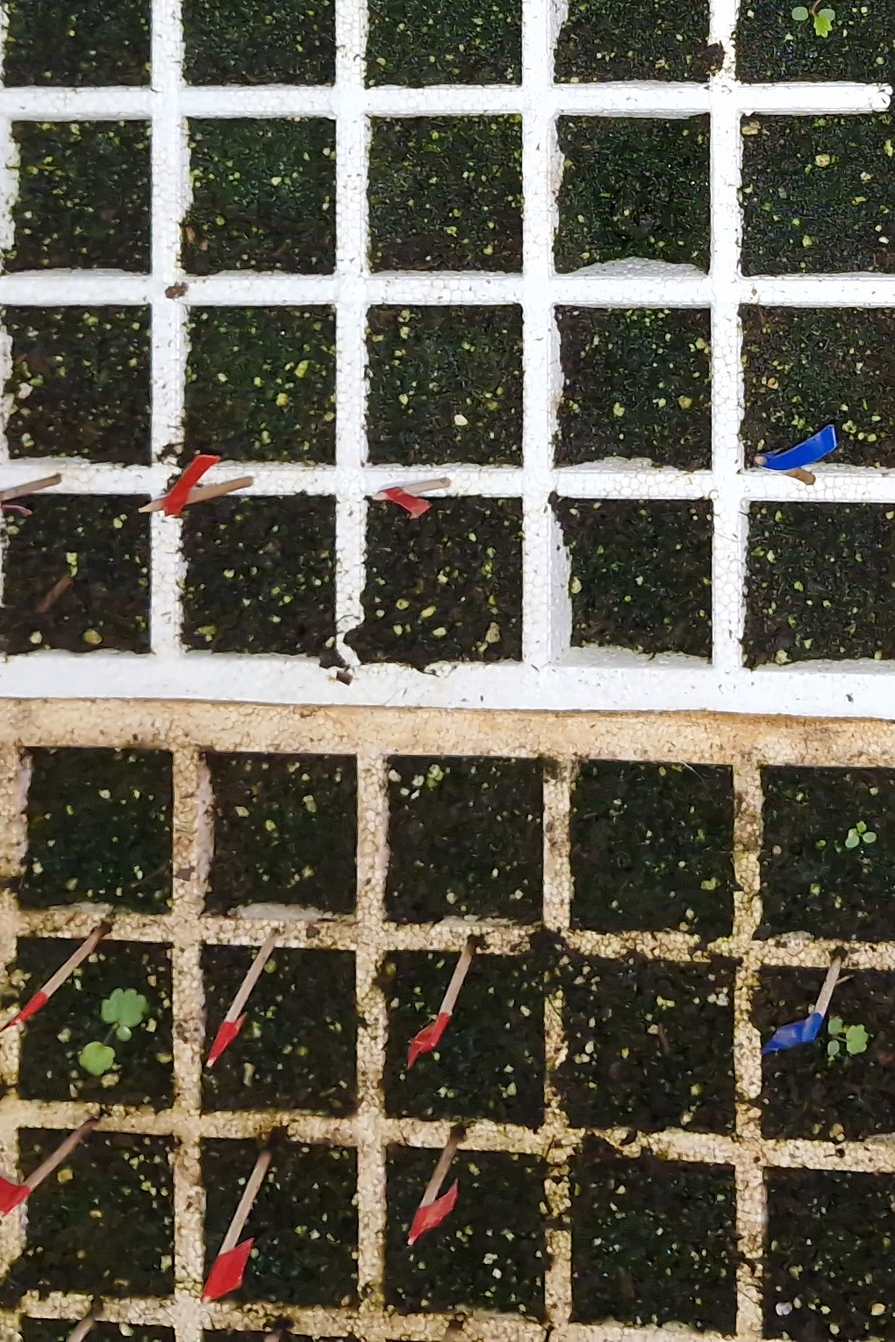Folha: (814, 16, 834, 37), (792, 7, 808, 21), (817, 9, 835, 20)
